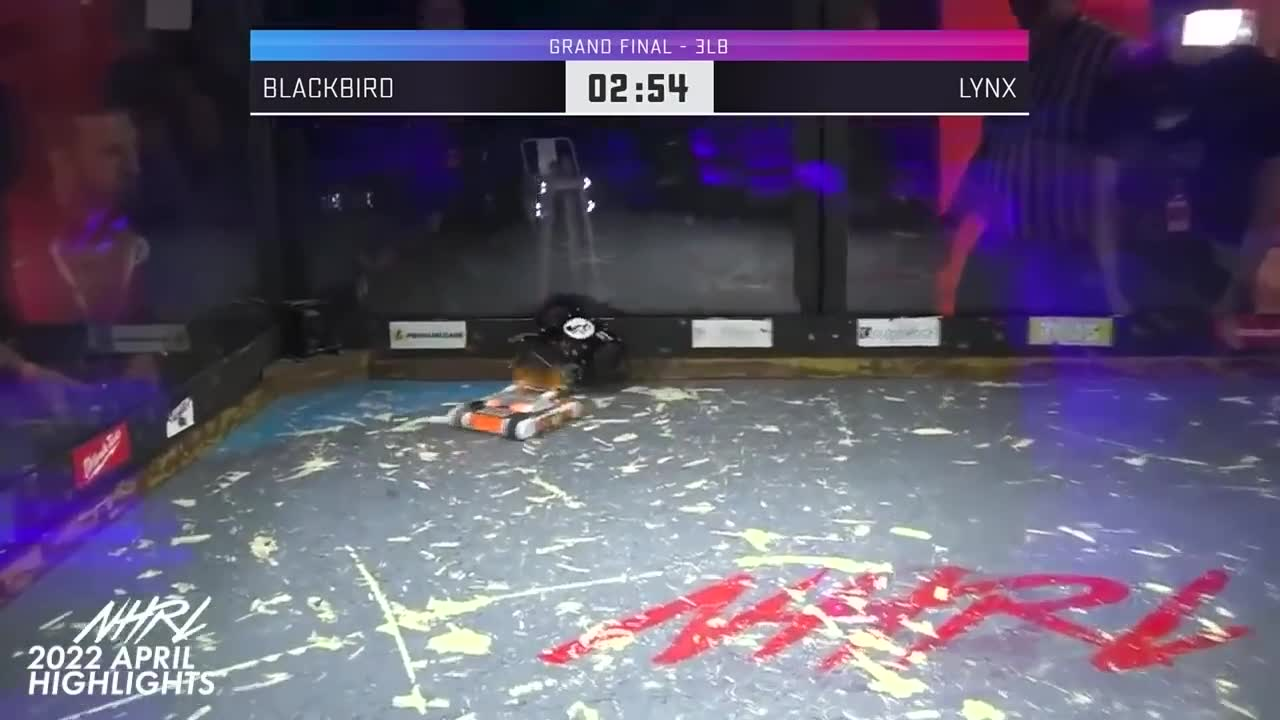combatbot: (514, 293, 629, 385), (449, 383, 583, 441)
